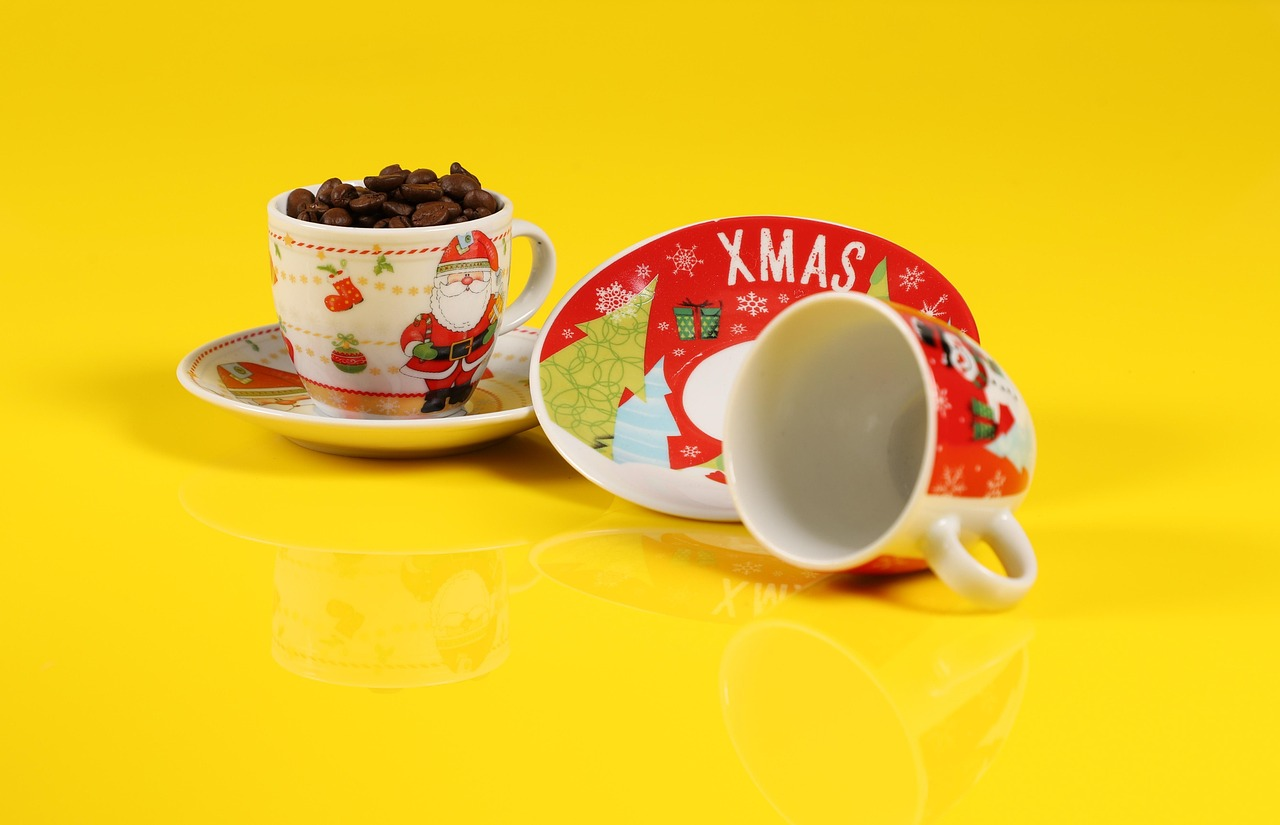mug: (678, 284, 1109, 614), (242, 164, 563, 459)
